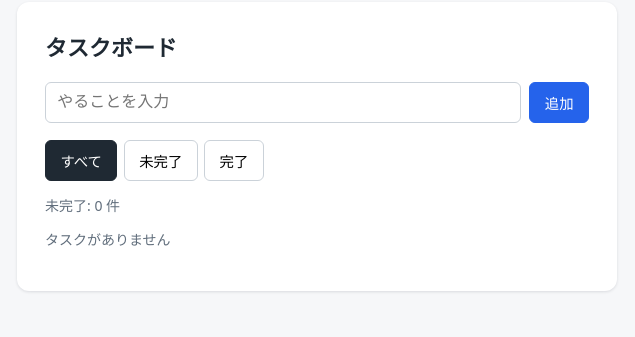
App › タスクを追加すると一覧に表示される
Type "請求書を送る" into the field named "タスク名" at (283, 102), box [45,82,521,123]
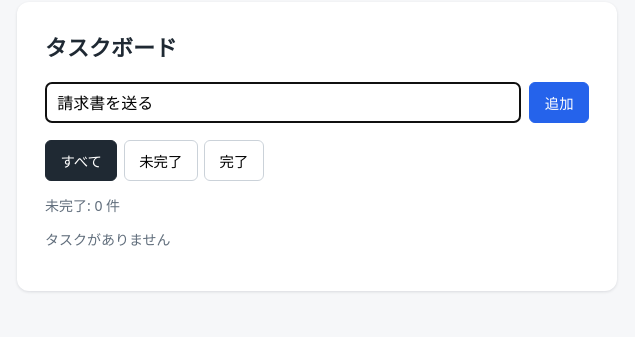
Click the button "追加" at (559, 102), box [529,82,589,123]
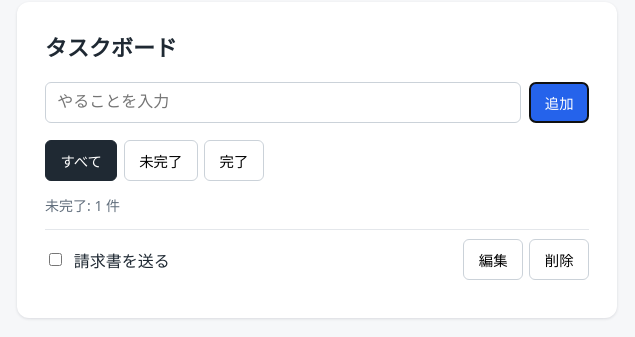
Expected: the text "請求書を送る" is shown, [74,248,170,272]
Expected: the text "未完了: 1 件" is shown, [45,196,120,215]
